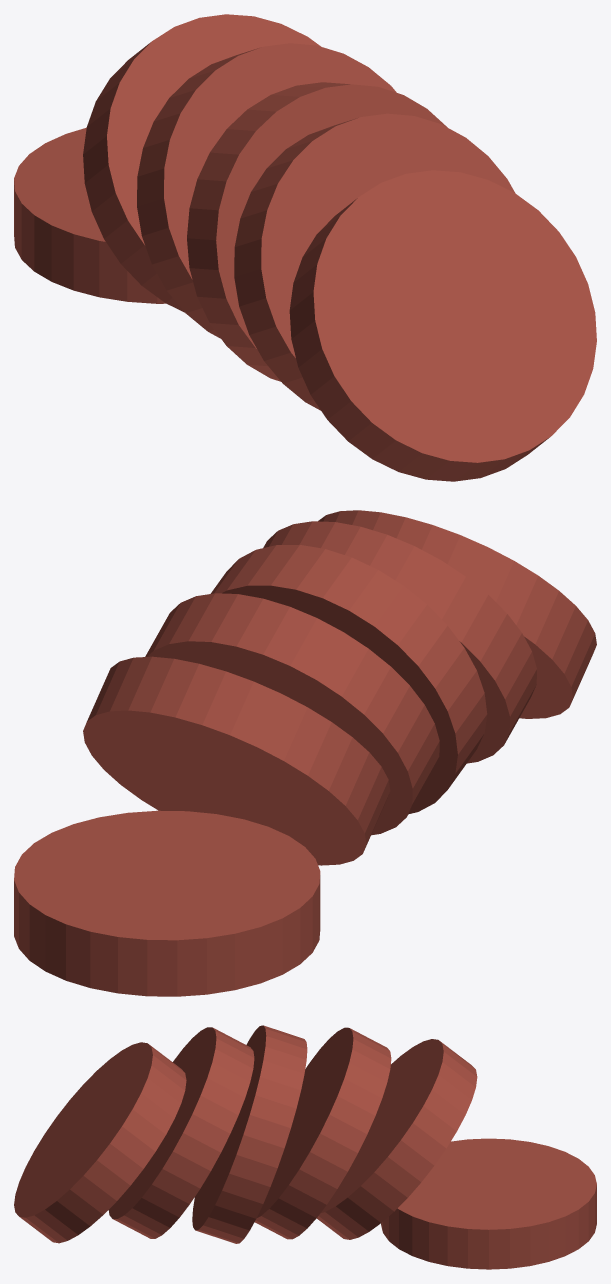
The model's file is CutSausage.fbx.
The picture shows the model from 3 angles, top to bottom: view 1: azimuth 30°, elevation 25°; view 2: azimuth 150°, elevation 25°; view 3: azimuth 270°, elevation 25°; orthographic projection. The views are drawn at different scales.
Visible parts, largest first — view 1: CutSausage; view 2: CutSausage; view 3: CutSausage.
Boxes of the visible parts, left/top/right/bottom form: CutSausage: left=14, top=14, right=596, bottom=481; CutSausage: left=14, top=510, right=596, bottom=996; CutSausage: left=14, top=1025, right=596, bottom=1269.
Bounding box in the file's own units: 2 × 2.02 × 5.39.
